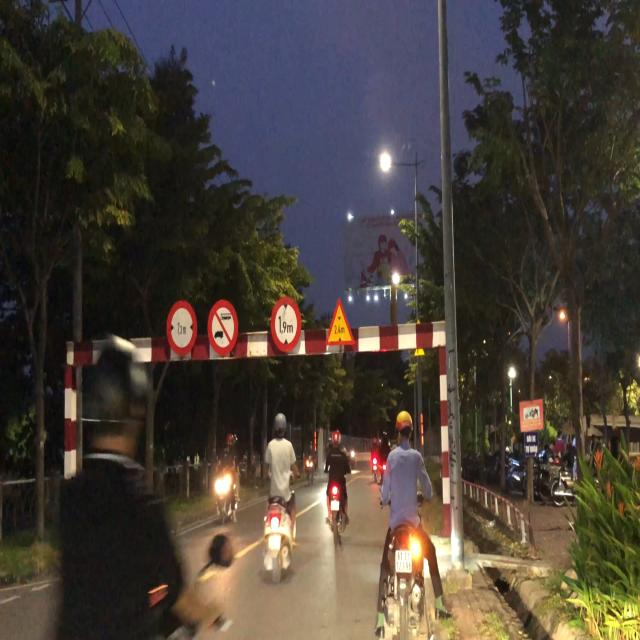Bien bao cam xe oto khach va xe oto tai: (205, 297, 243, 361)
Bien bao chieu cao tinh khong thuc te: (322, 294, 356, 351)
Bien bao han che chieu cao: (268, 290, 302, 356)
